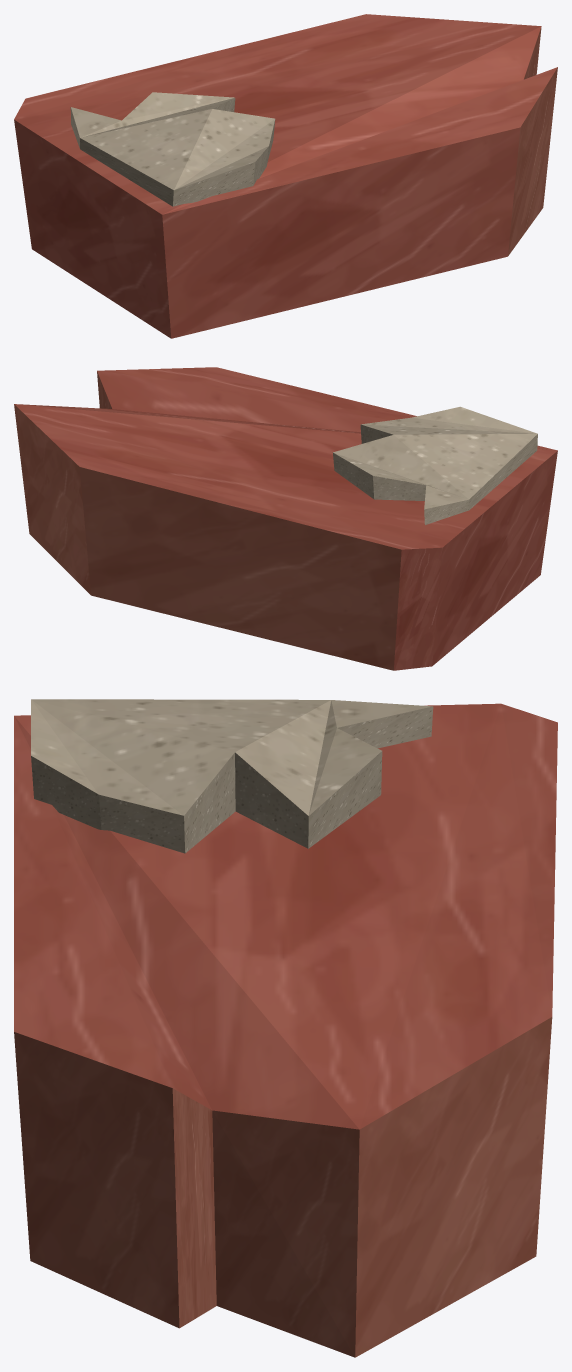
The model's file is debris_brick_mortar.glb.
3 views of the same model, one above another, from view 1: azimuth 30°, elevation 25°; view 2: azimuth 150°, elevation 25°; view 3: azimuth 270°, elevation 25° (orthographic). The views are drawn at different scales.
Visible parts, largest first — view 1: Brick and Mortar Fragment; view 2: Brick and Mortar Fragment; view 3: Brick and Mortar Fragment.
Boxes of the visible parts, x1,y1,x2,y2 form: Brick and Mortar Fragment: (14, 14, 557, 338); Brick and Mortar Fragment: (14, 367, 557, 670); Brick and Mortar Fragment: (14, 699, 557, 1357).
Size of the model in its own units: 0.18 by 0.058 by 0.096.
Materials: 1 (1 with a texture image).
